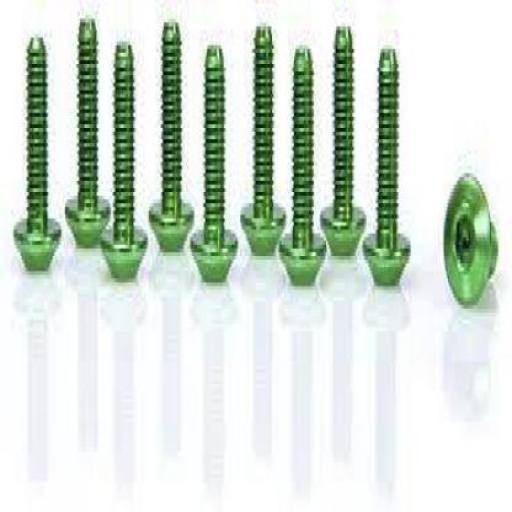bolt: (190, 44, 238, 283), (363, 48, 411, 287), (101, 40, 148, 282), (14, 37, 62, 272), (280, 46, 326, 286), (65, 17, 112, 250), (241, 25, 287, 257), (320, 25, 366, 257), (149, 21, 194, 255)
washer: (443, 172, 500, 306)
